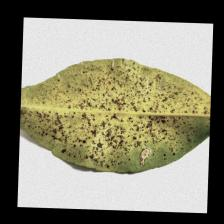canker: (58, 72, 176, 142)
